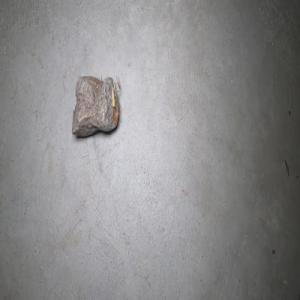Rock: (71, 74, 120, 135)
